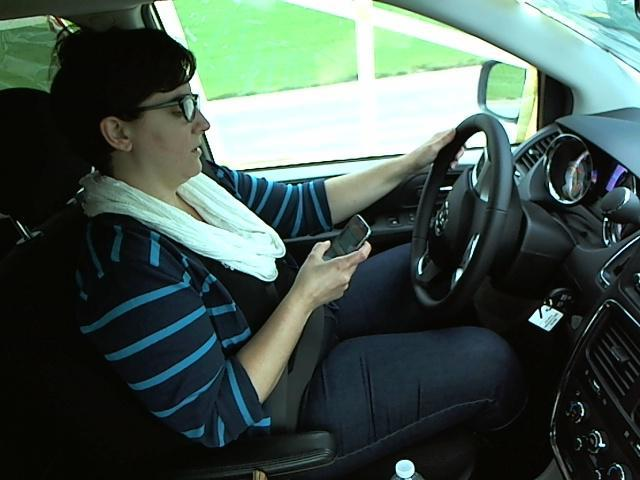PhoneUse: (314, 214, 381, 278)
